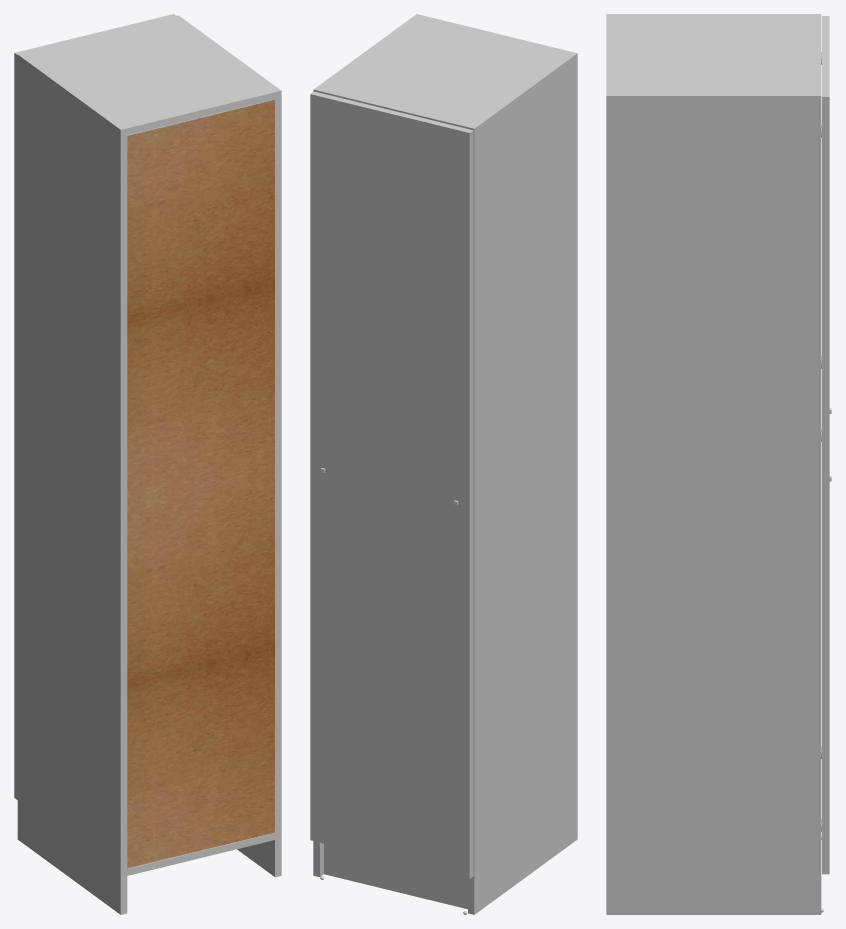
Rendered from Szafa_babilon_wzor1c.glb.
The picture shows the model from 3 angles, left to right: view 1: azimuth 30°, elevation 25°; view 2: azimuth 150°, elevation 25°; view 3: azimuth 270°, elevation 25°; orthographic projection. The views are drawn at different scales.
Parts seen in each view (by area): view 1: plecy, bok P, wieniec G, bok L, front, wieniec D; view 2: front L, bok P, wieniec G, front, cokol, bok L; view 3: bok L, wieniec G, front L, front, bok P.
Boxes of the visible parts, box(x1,y1,x2,y2) form: plecy: box(127, 99, 274, 868); bok P: box(17, 53, 127, 914); wieniec G: box(24, 17, 274, 134); bok L: box(172, 15, 281, 877); front: box(14, 14, 175, 799); wieniec D: box(127, 833, 274, 875); front L: box(310, 94, 473, 878); bok P: box(468, 51, 577, 914); wieniec G: box(320, 15, 570, 128); front: box(310, 91, 473, 878); cokol: box(324, 843, 467, 909); bok L: box(313, 14, 422, 877); bok L: box(606, 92, 821, 914); wieniec G: box(606, 17, 821, 92); front L: box(822, 97, 829, 874); front: box(822, 16, 829, 662); bok P: box(606, 14, 821, 17).
Size of the model in its own units: 0.45 by 2.11 by 0.524.
Materials: 8 (1 with a texture image).
